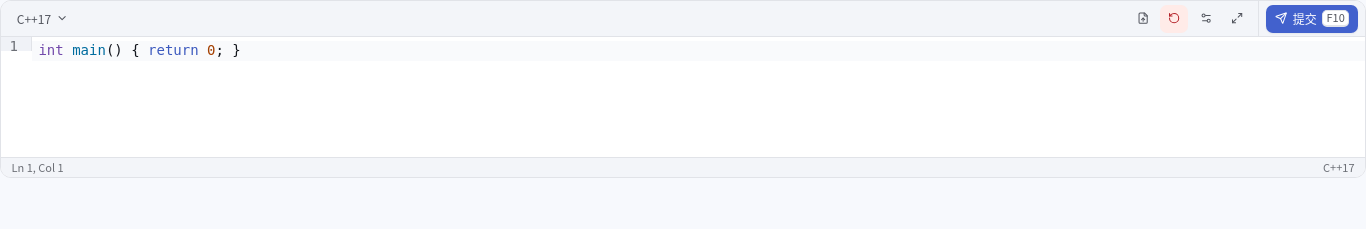
Test case: krypton IDE problem submission › rejects an object record id in an otherwise successful response
The image size is (1366, 229).
Click the button "提交 F10".
click(1312, 18)  # box [1266,4,1358,32]
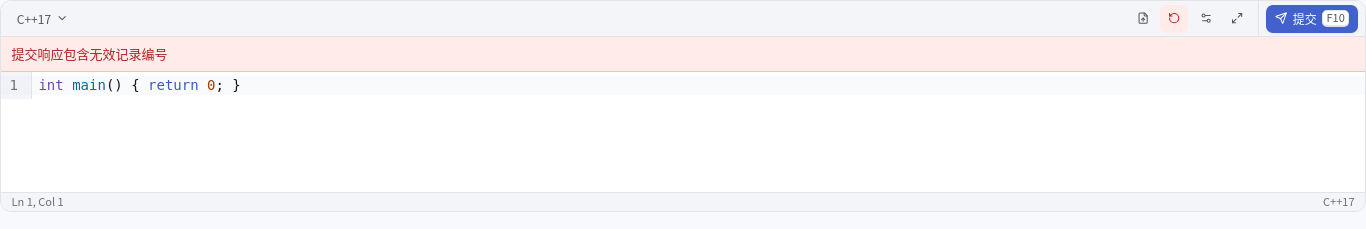
Expected: the message reads "提交响应包含无效记录编号", [12,44,168,63]
